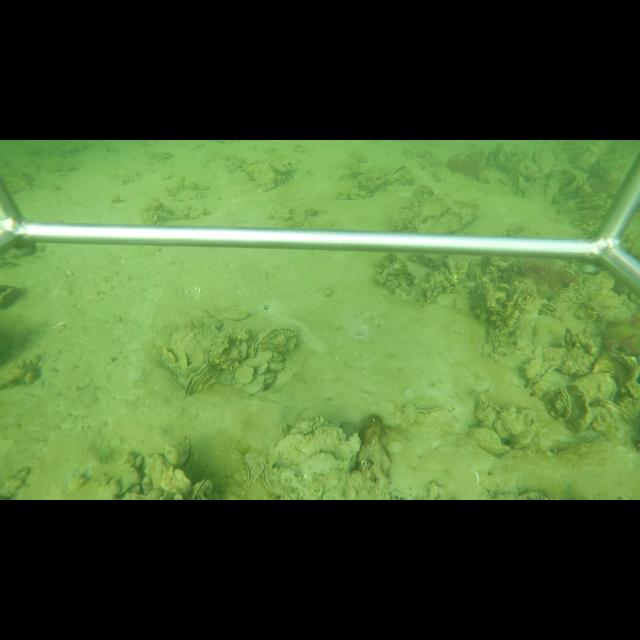Oyster-Closed: (260, 418, 358, 500), (374, 254, 416, 298), (248, 327, 303, 354), (546, 383, 573, 422), (247, 160, 277, 192), (207, 337, 238, 366), (575, 385, 592, 431), (190, 477, 218, 498), (210, 308, 249, 322), (268, 152, 294, 173), (243, 378, 264, 396), (158, 345, 177, 364), (256, 362, 270, 374)
Oyster-Open: (179, 364, 225, 399), (391, 165, 413, 185)
